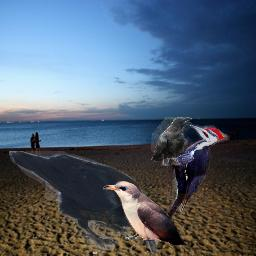Crow: (9, 151, 158, 254), (151, 117, 192, 166)
Cuckoo: (103, 181, 187, 246)
Woodpecker: (167, 124, 230, 228)
